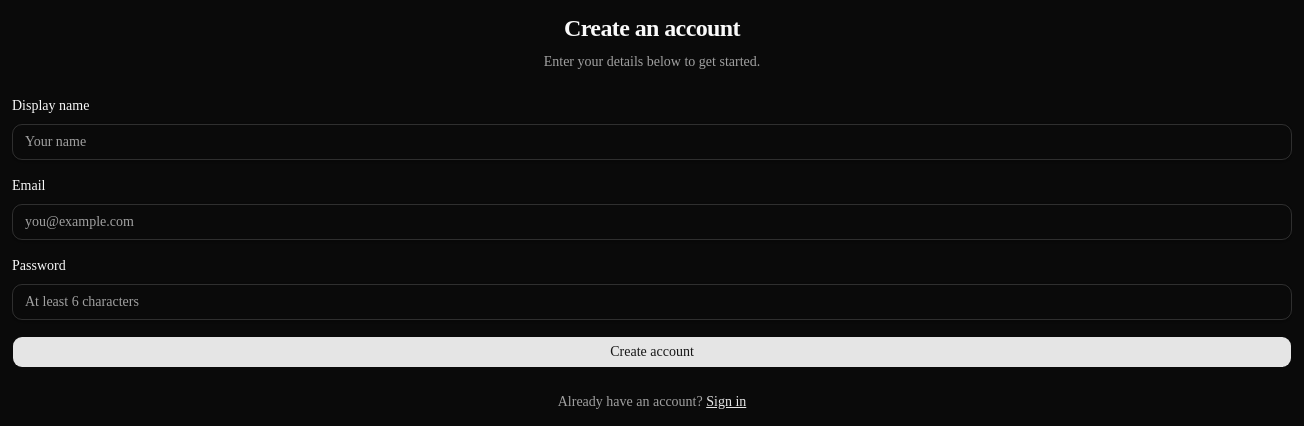
Test case: Authentication Flow › Signup Page › shows check your email screen after signup
This screenshot has width=1304, height=426.
Type "New User" into the field labelled "Display name".
click(652, 142); type("New User")  # box [12, 124, 1292, 160]
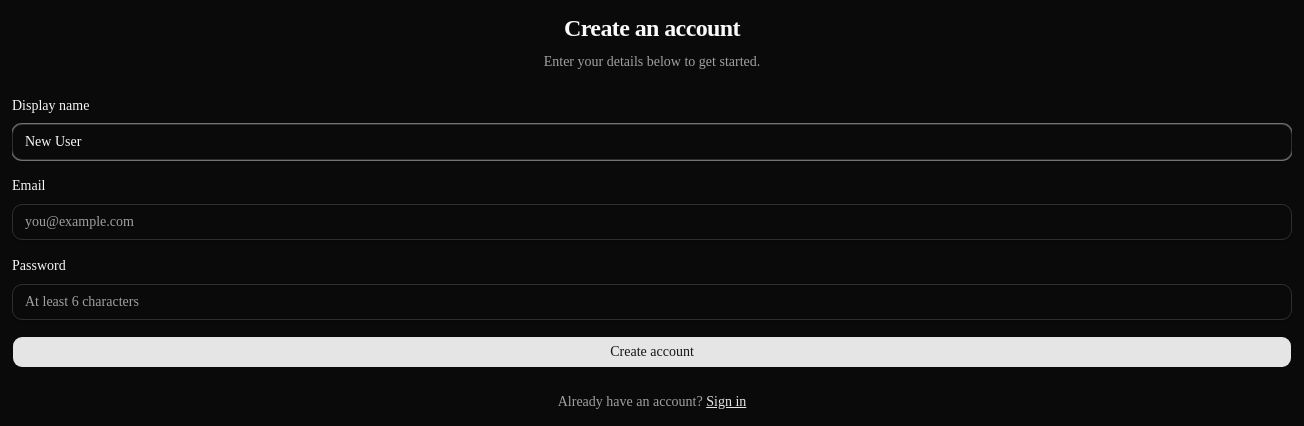
Type "new@example.com" into the field labelled "Email".
click(652, 222); type("new@example.com")  # box [12, 204, 1292, 240]
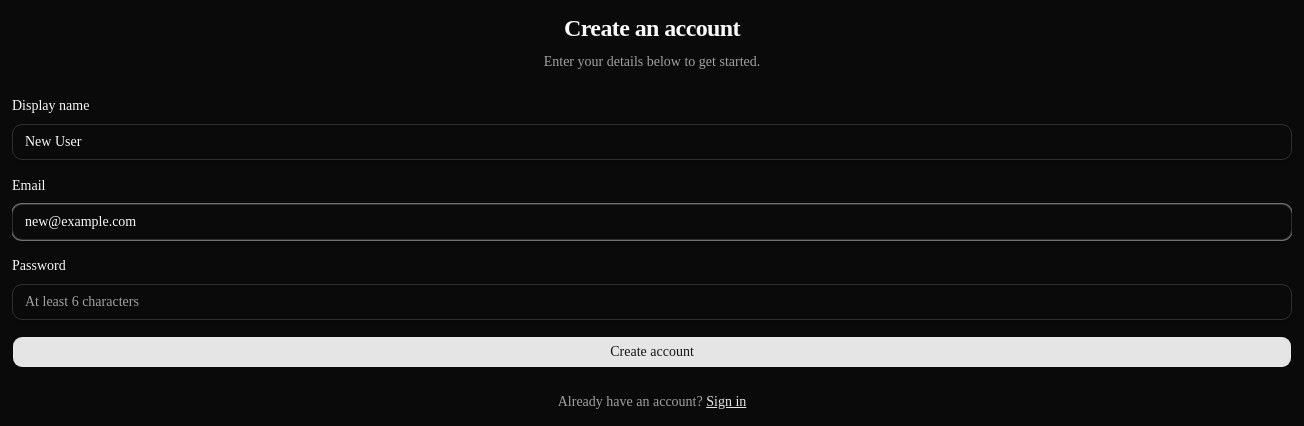
Type "secret123" into the password field labelled "Password".
click(652, 302); type("secret123")  # box [12, 284, 1292, 320]
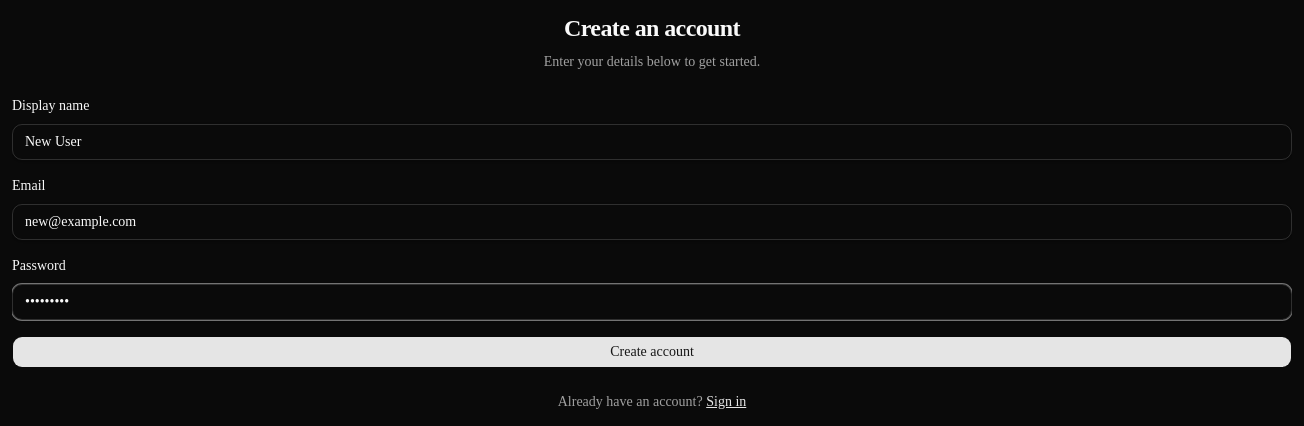
Click the button "Create account".
click(652, 352)  # box [12, 336, 1292, 368]
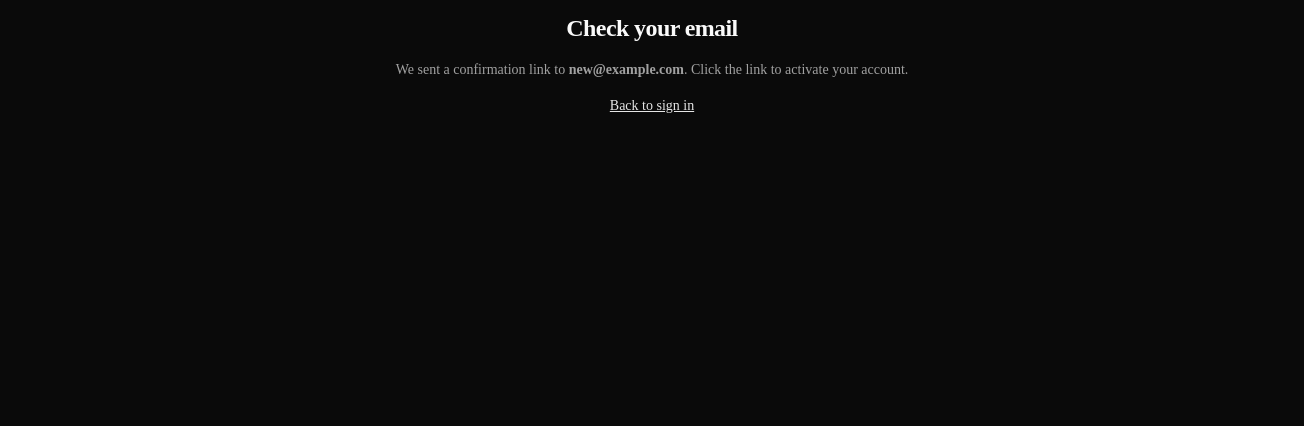
expect the heading "Check your email" is shown: met, box [566, 15, 738, 41]
expect the text "new@example.com" is shown: met, box [569, 62, 684, 77]
